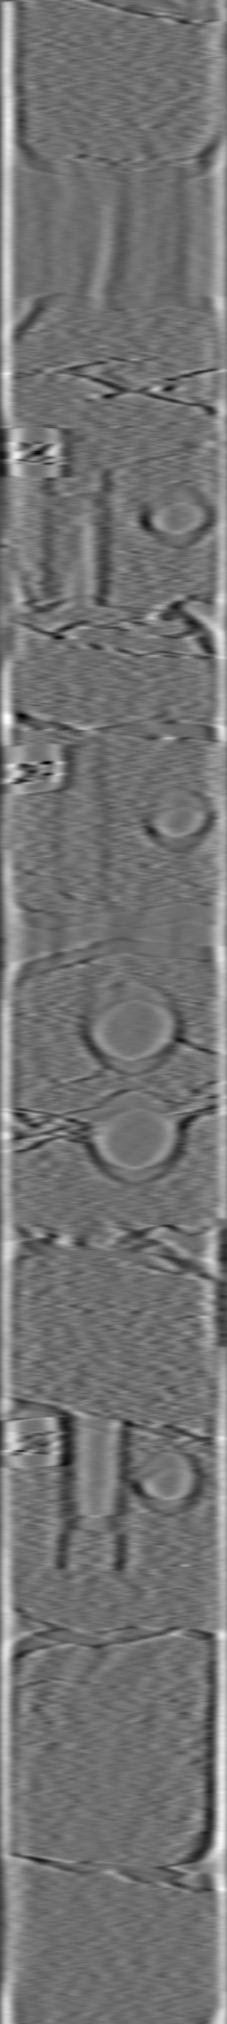hplug: (137, 780, 218, 858), (129, 1442, 206, 1523), (137, 472, 214, 552)
scal: (83, 1080, 191, 1188), (79, 978, 184, 1078)
vplug: (48, 1411, 132, 1577), (43, 736, 117, 916), (31, 469, 116, 611)
